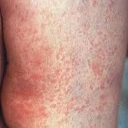Measles: (13, 7, 110, 121)
